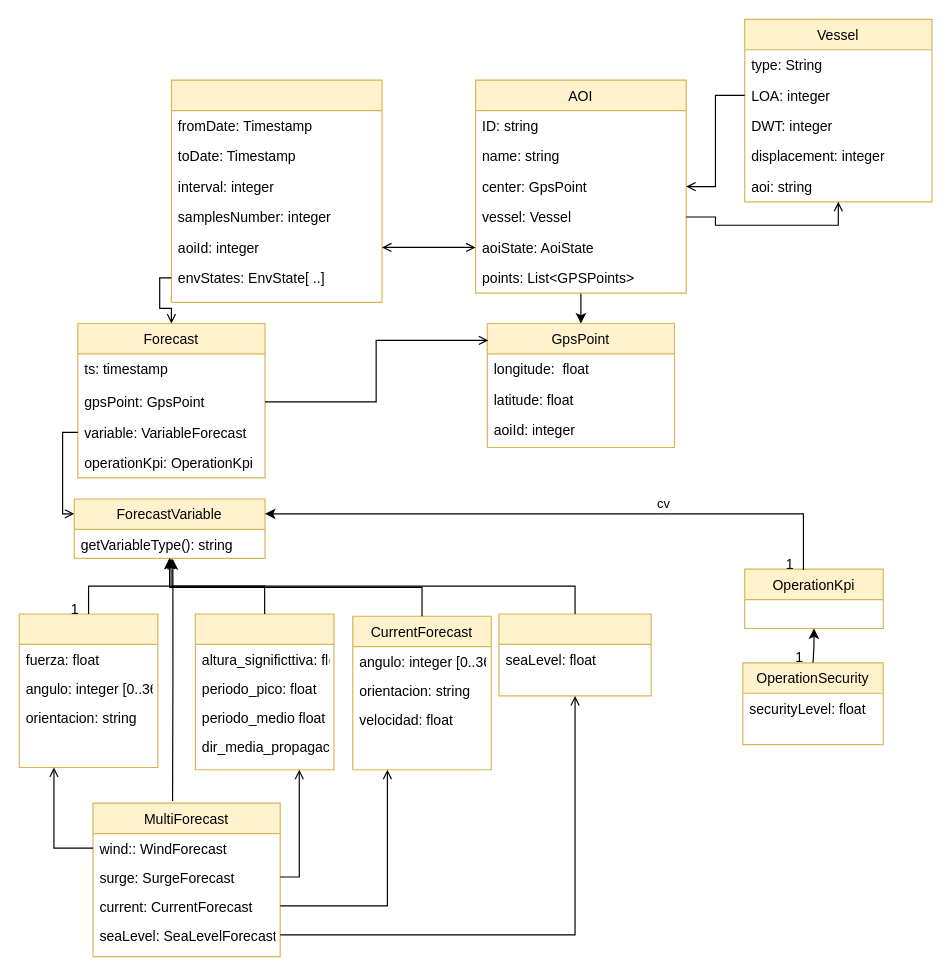
This 951x976 diagram has some shape labels left out. Each missing label, with the box of its shape:
AoiState: (170, 79, 382, 302)
SeaLevelForecast: (498, 613, 651, 696)
SurgeForecast: (194, 613, 334, 770)
WindForecast: (18, 613, 158, 768)
